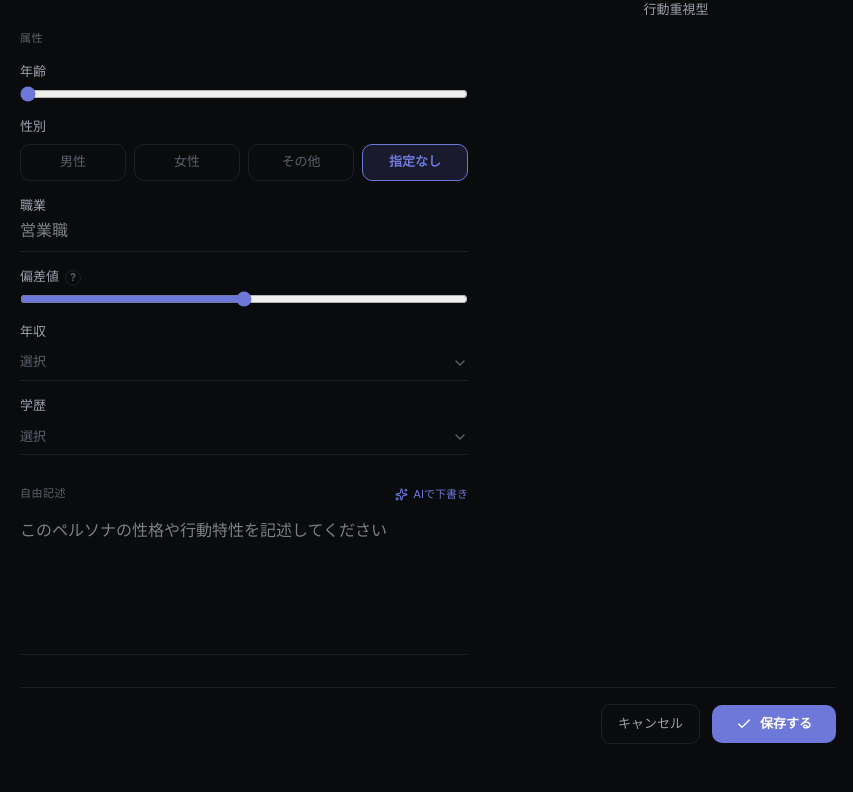
PersonaEditPage › 表示名未入力時にバリデーションエラーが表示される
The image size is (853, 792).
(page scrolled)
Click the button "保存する" at (774, 724), box [712,705,836,743]
(page scrolled)
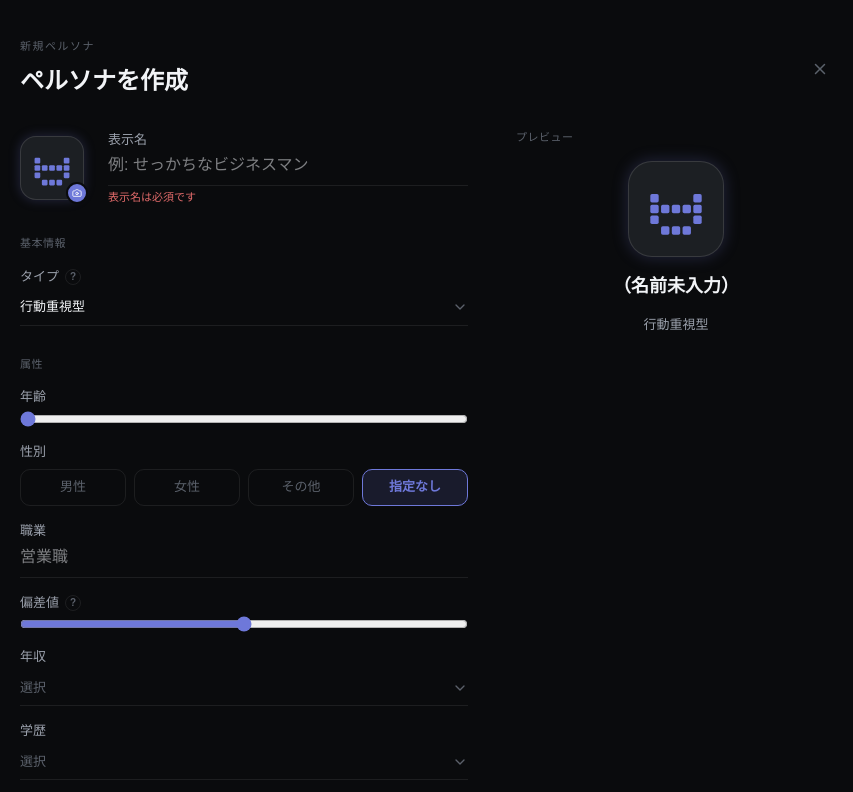
Check: the text "表示名は必須です" is shown, box [108,191,196,203]
